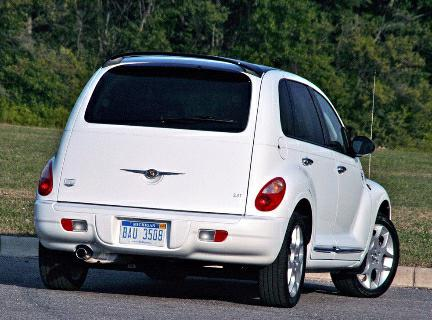克莱斯勒-PT漫步者: (32, 50, 406, 304)
